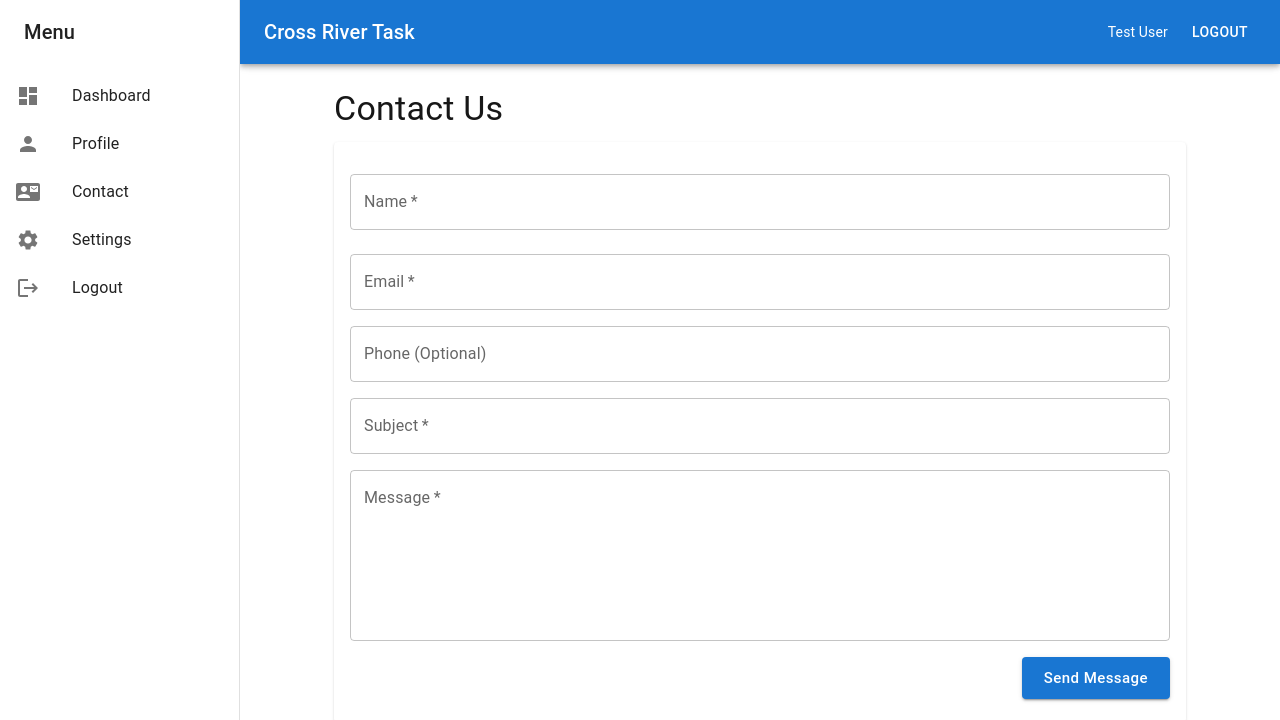
Contact Page › should show success message after successful submission
# Fill out the form
In the field labelled "Name *": (760, 202) top-left (350, 174), bottom-right (1170, 230), type "John Doe"
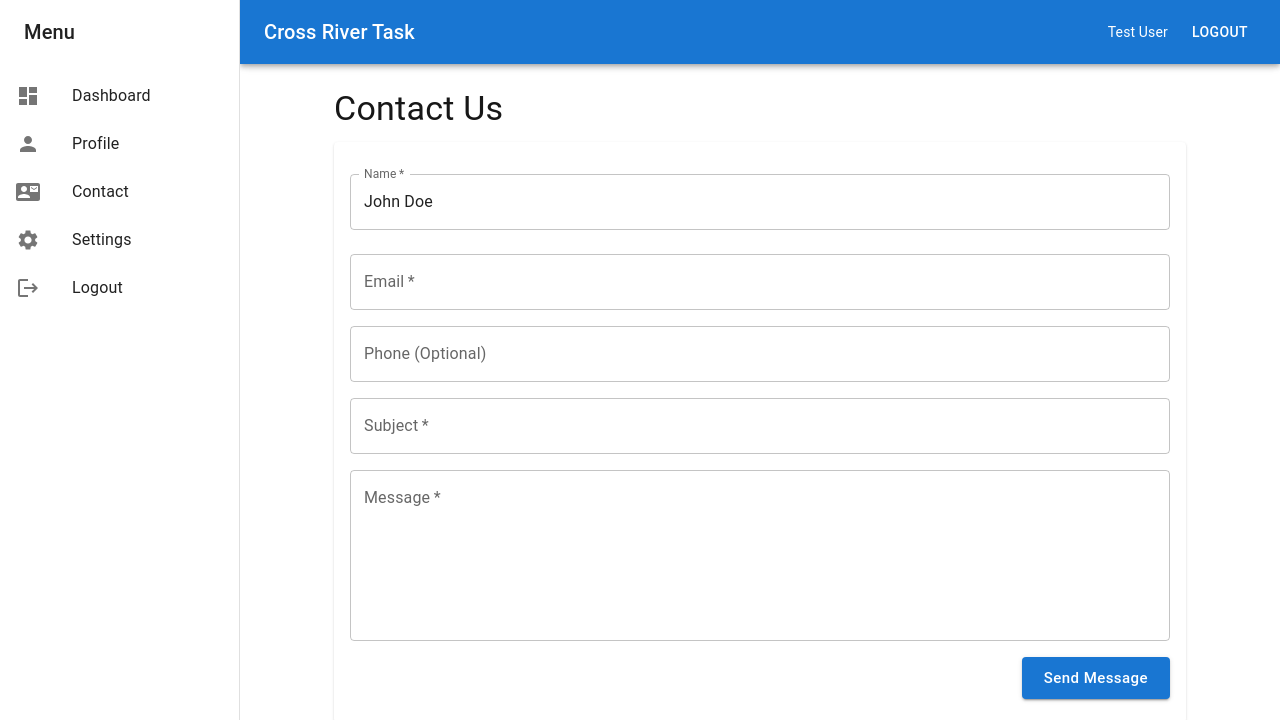
In the field labelled "Email *": (760, 282) top-left (350, 254), bottom-right (1170, 310), type "john@example.com"
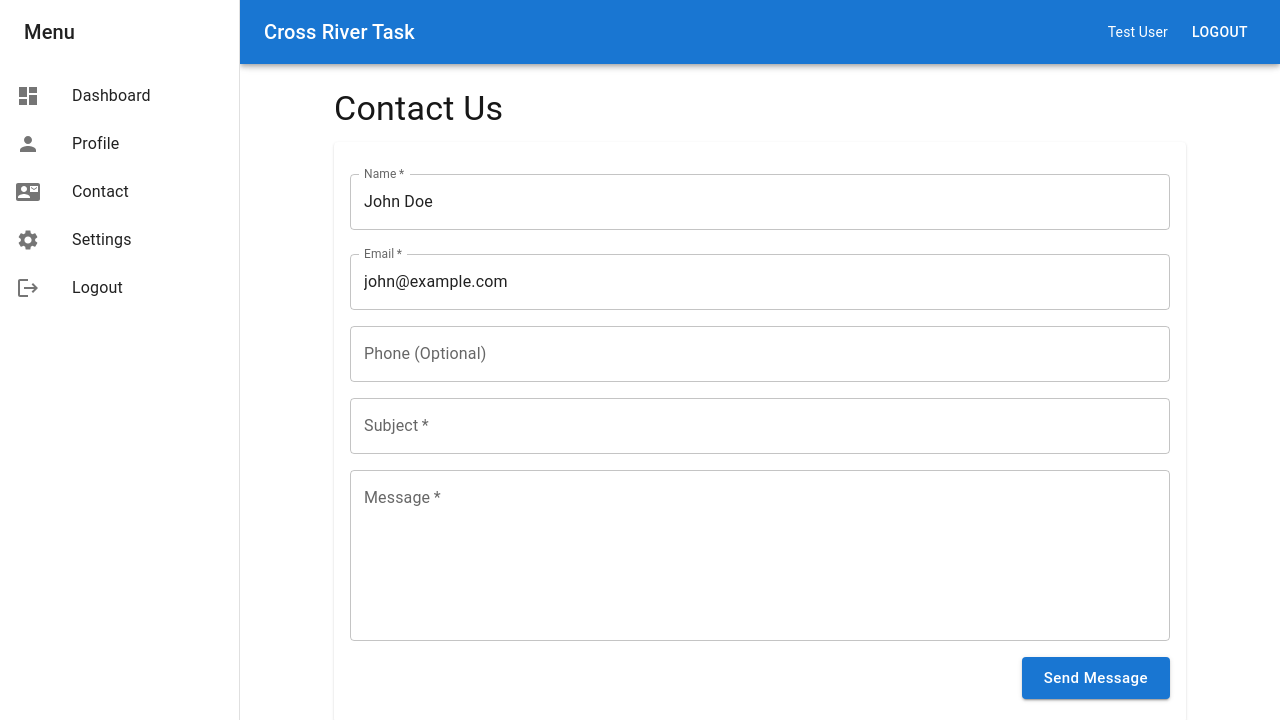
In the field labelled "Subject *": (760, 426) top-left (350, 398), bottom-right (1170, 454), type "Test Subject"
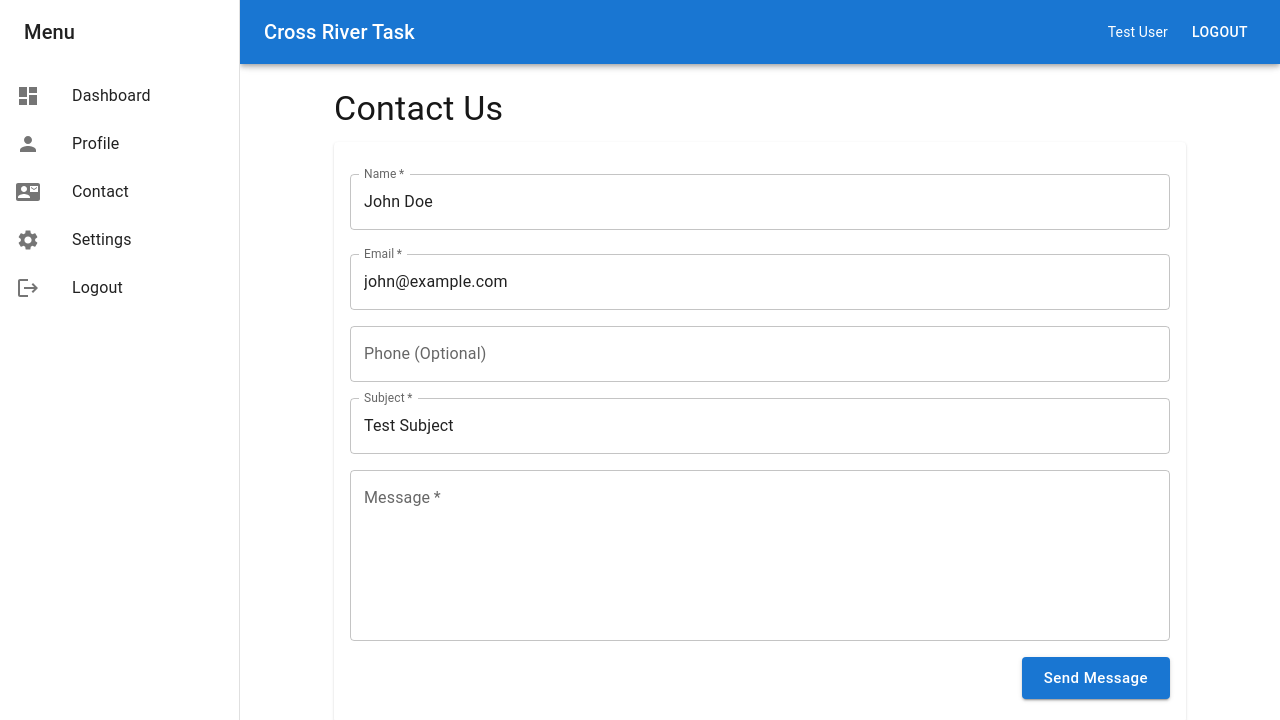
In the text box labelled "Message *": (760, 555) top-left (364, 486), bottom-right (1156, 624), type "This is a test message with enough characters"
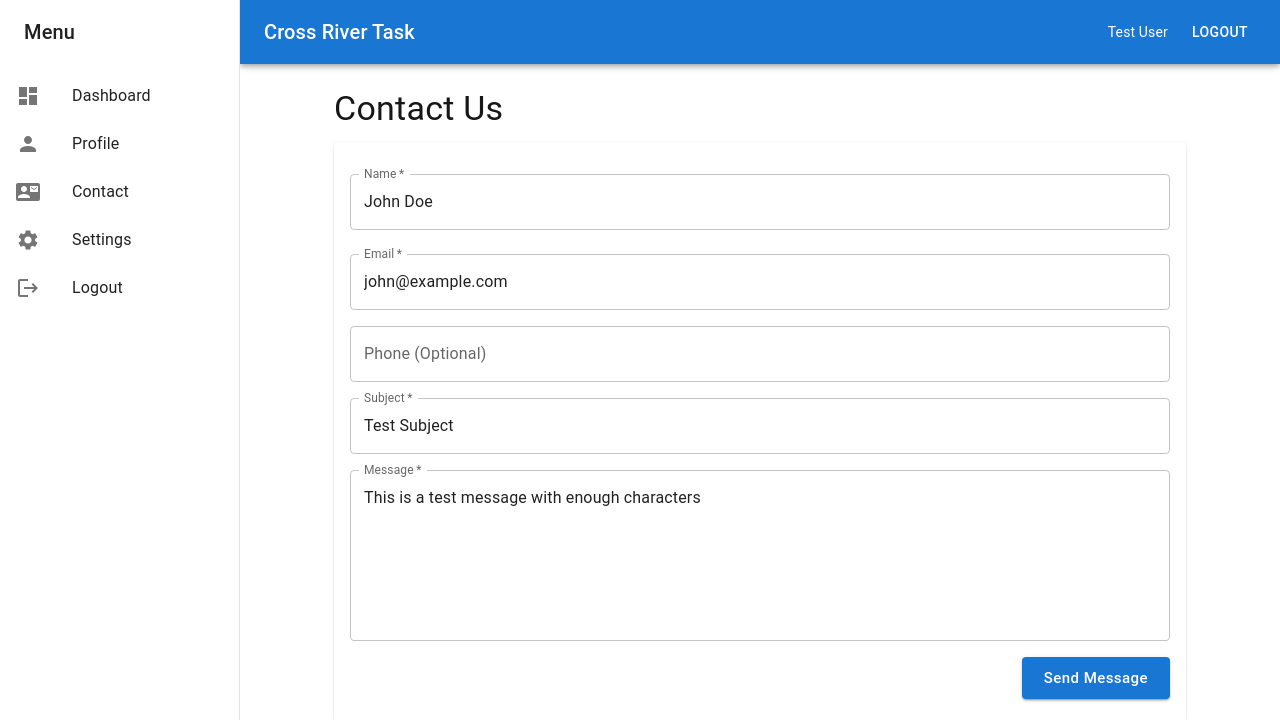
Click the button "Send Message": (1096, 678) top-left (1022, 657), bottom-right (1170, 699)
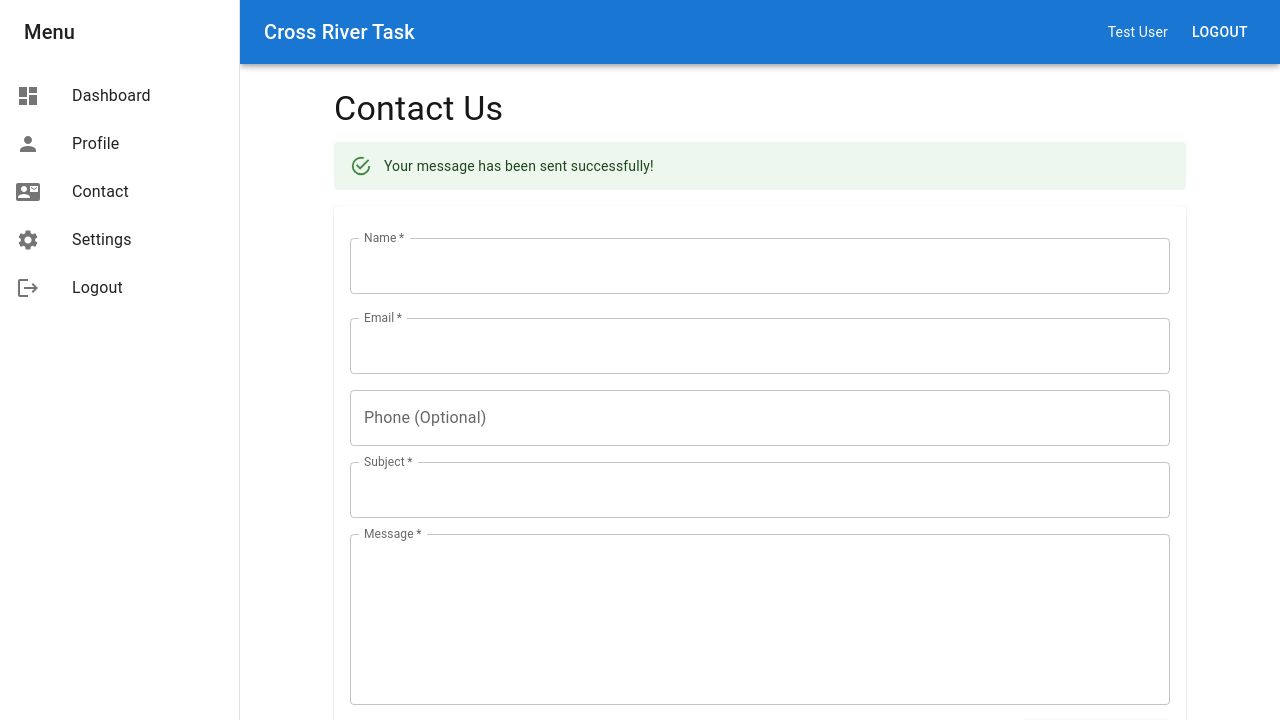
Result: the text "Your message has been sent successfully!" is shown at top-left (384, 158), bottom-right (654, 174)
